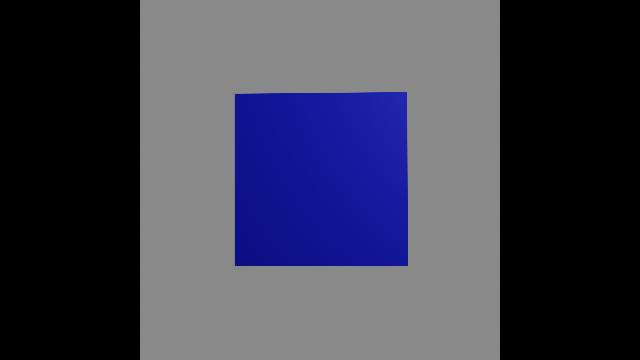Cube: (225, 90, 412, 270)
